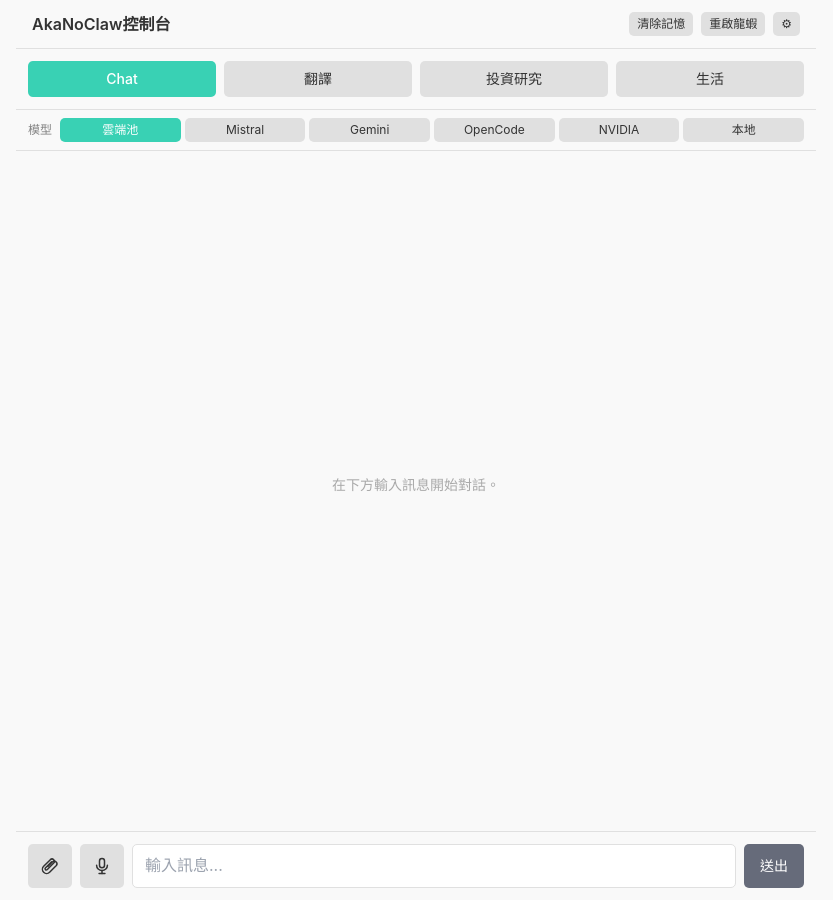
CaptureModeChip — workflow › after ✕ exit, chat input routes to streamCommand not workflow endpoint
Step 1. Type "建立 workflow" into the text box → (434, 866), box [132, 844, 736, 888]
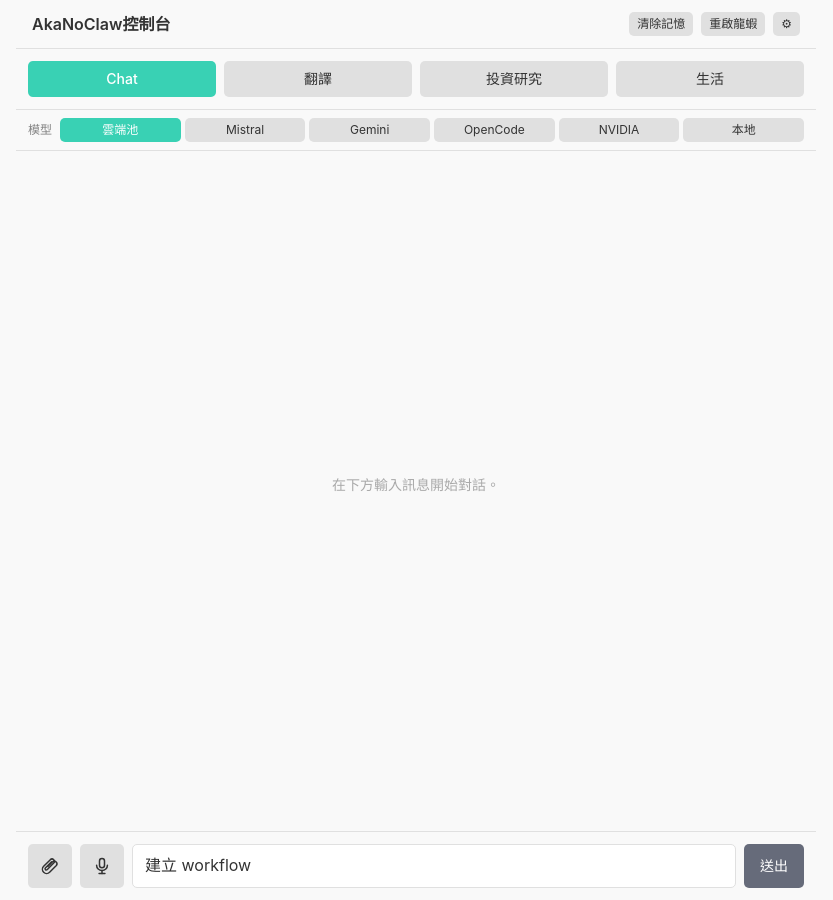
Step 2. Click the button "送出" → (774, 866), box [744, 844, 804, 888]
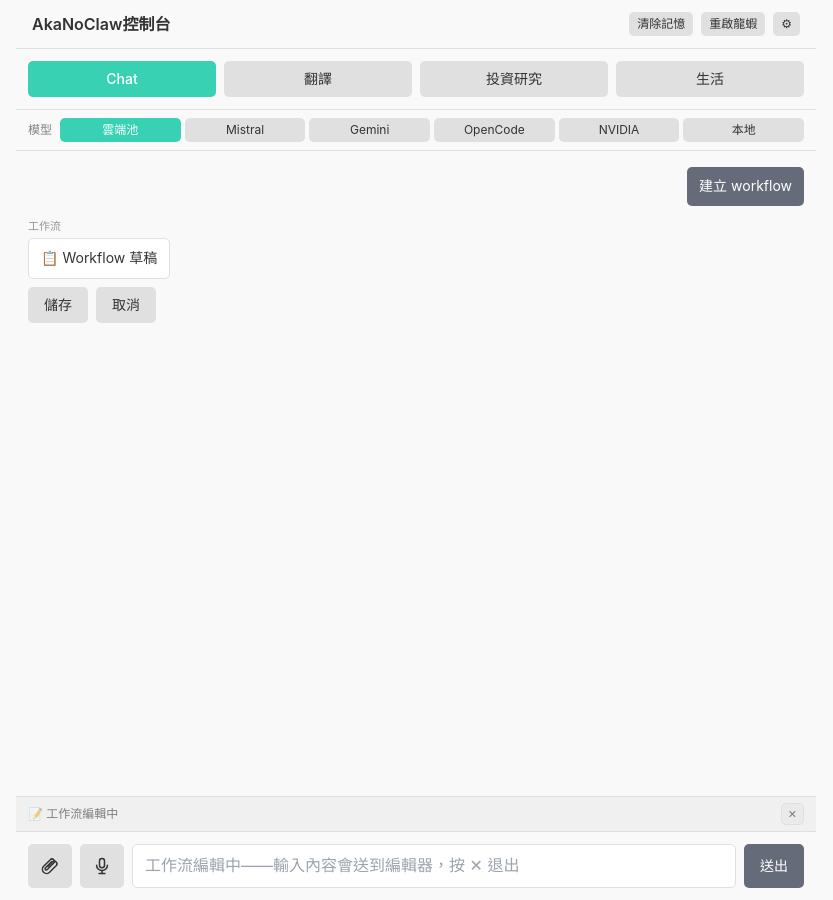
Expected: the text "📋 Workflow 草稿" is shown, [28, 238, 170, 279]
Step 3. Click the button named "退出編輯" → (792, 814), box [781, 802, 804, 825]
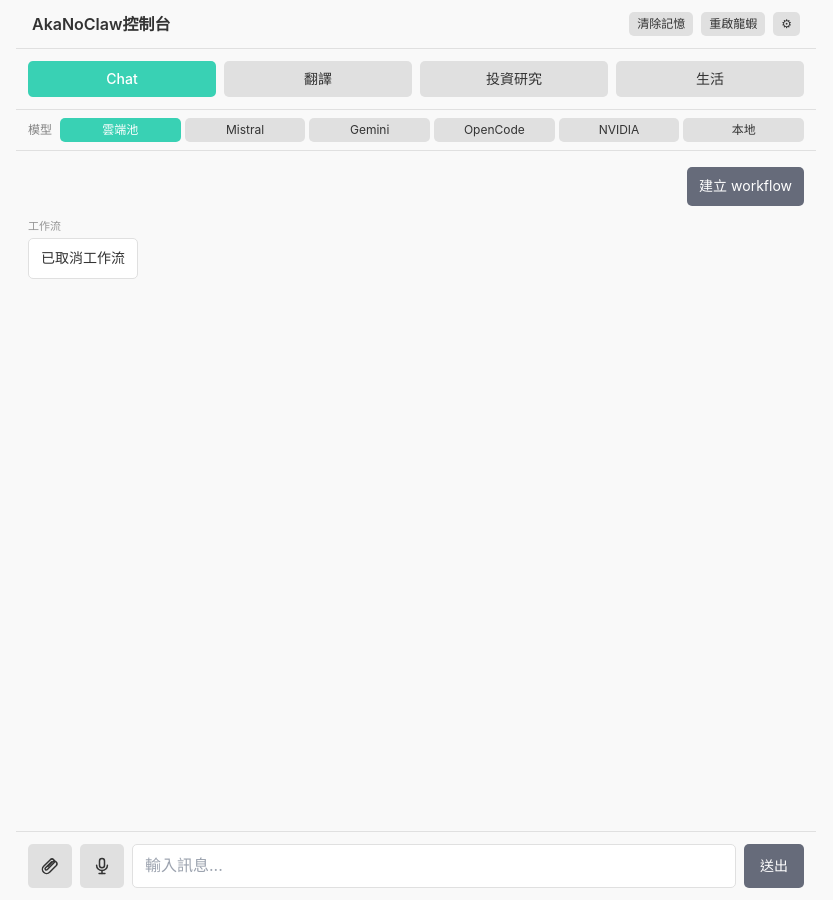
Expected: the text "已取消工作流" is shown, [28, 238, 138, 279]
Step 4. Type "繼續聊天" into the text box → (434, 866), box [132, 844, 736, 888]
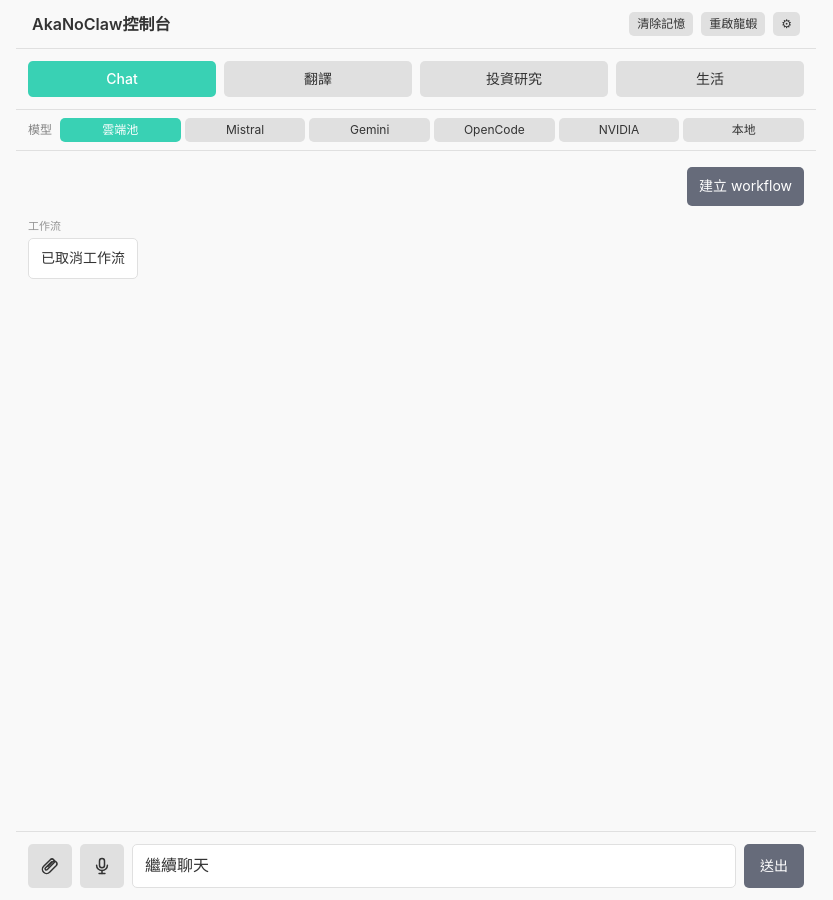
Step 5. Click the button "送出" → (774, 866), box [744, 844, 804, 888]
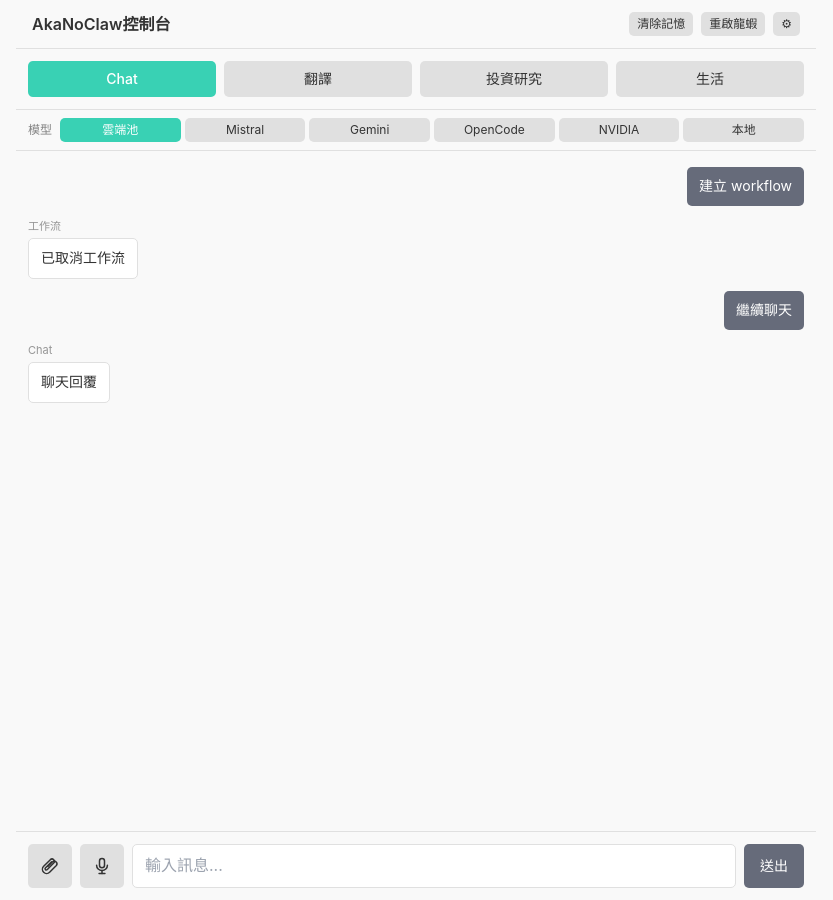
Expected: the text "聊天回覆" is shown, [28, 362, 110, 403]
